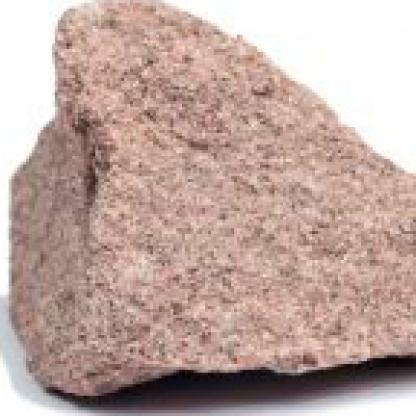Metamorphic_Quartize: (2, 0, 415, 409)
